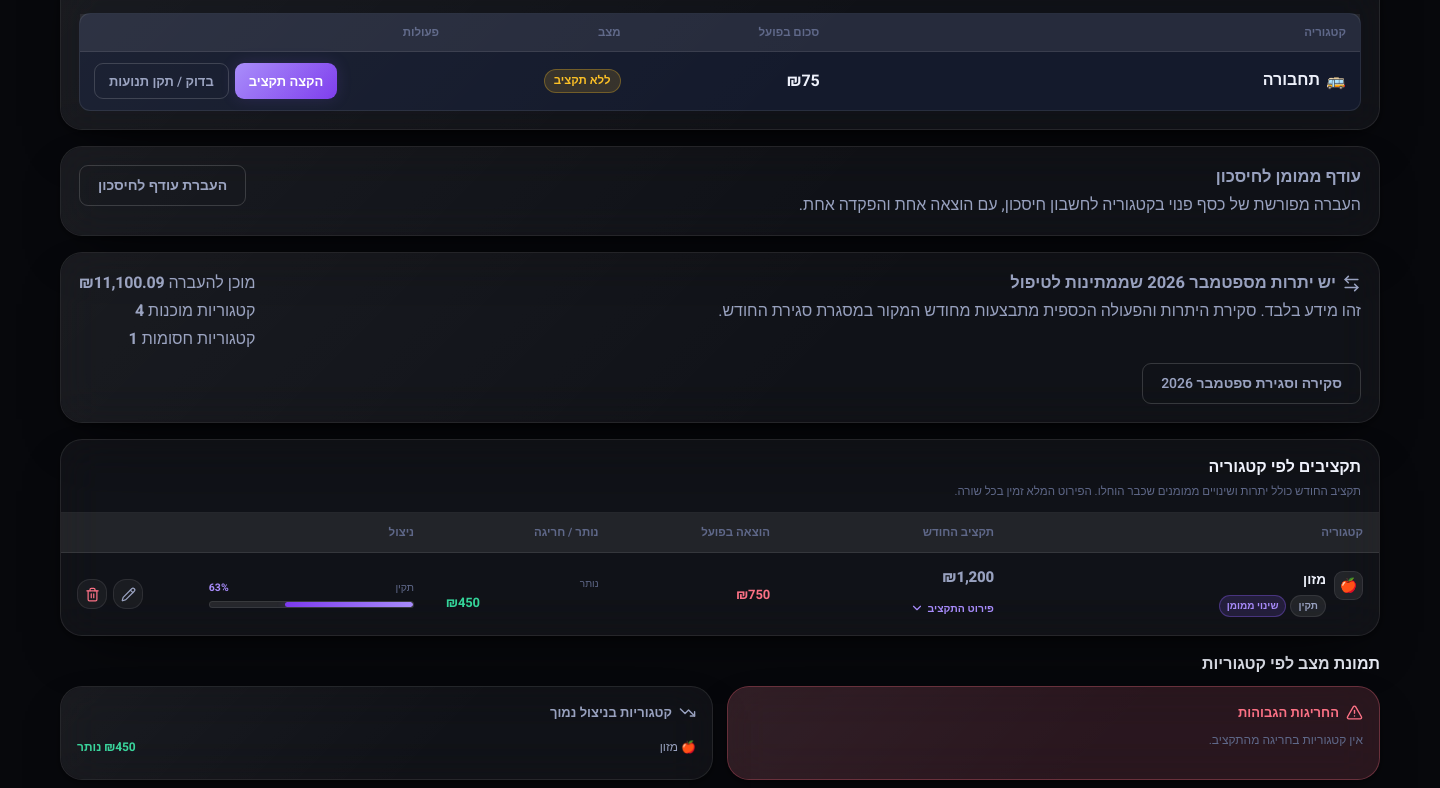
Test: canonical funded monthly read › shows pending carryover read-only and navigates to the source month close workflow
(page scrolled)
Expected: the heading that starts with "יש יתרות מ" is shown, top-left (1010, 271), bottom-right (1361, 295)
Expected: the text "₪11,100.09" is shown, top-left (79, 271), bottom-right (164, 295)
Click the button "סקירה וסגירת ספטמבר 2026": coordinates (1252, 384) top-left (1142, 363), bottom-right (1361, 404)
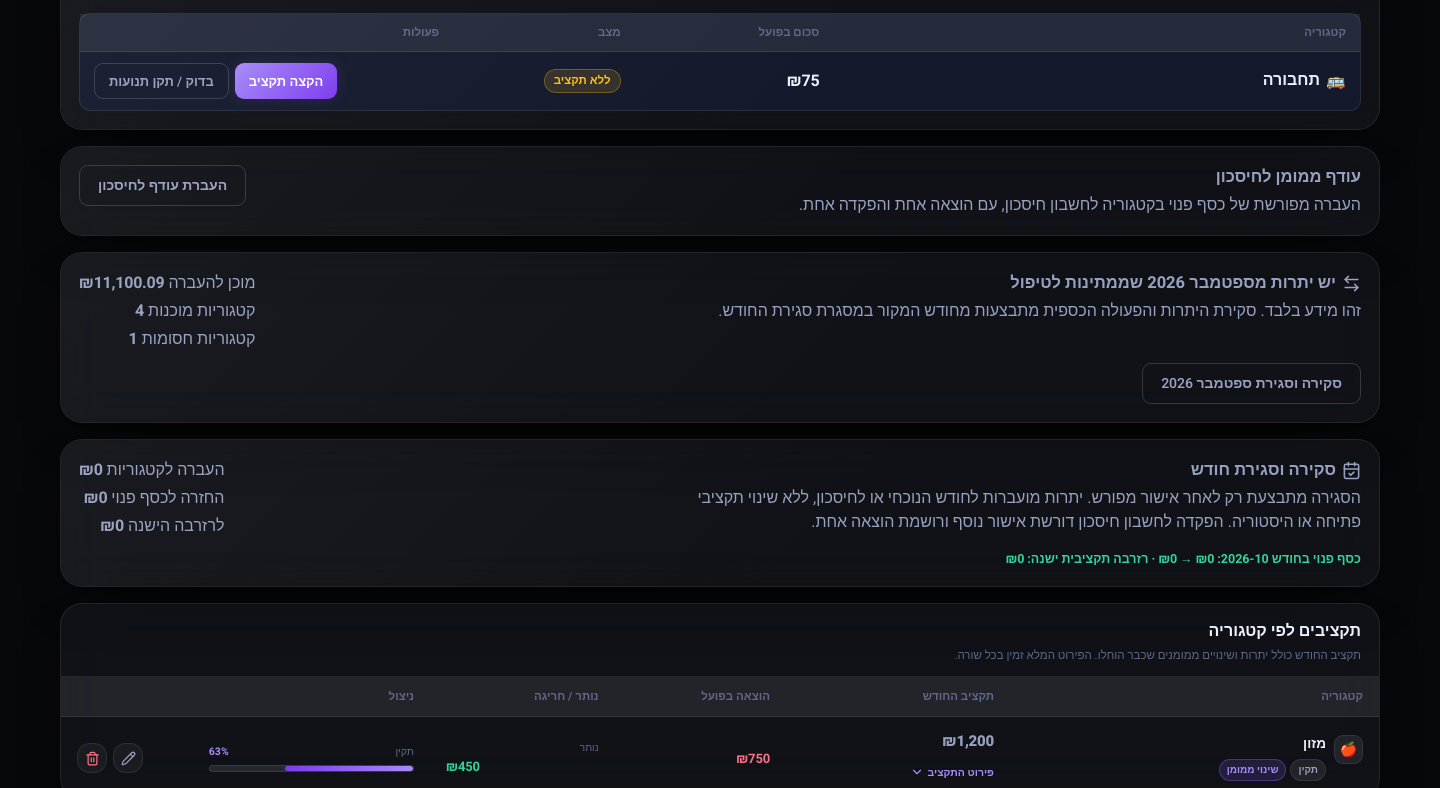
Result: the heading "סקירה וסגירת חודש" is shown at top-left (1191, 458), bottom-right (1361, 482)
